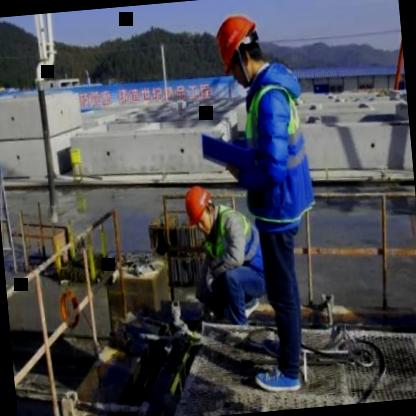helmet: (210, 7, 268, 88), (182, 182, 220, 234)
